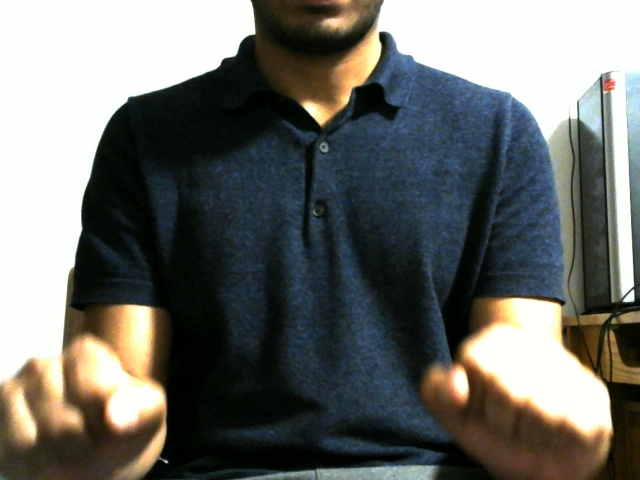can: (1, 246, 597, 470)
